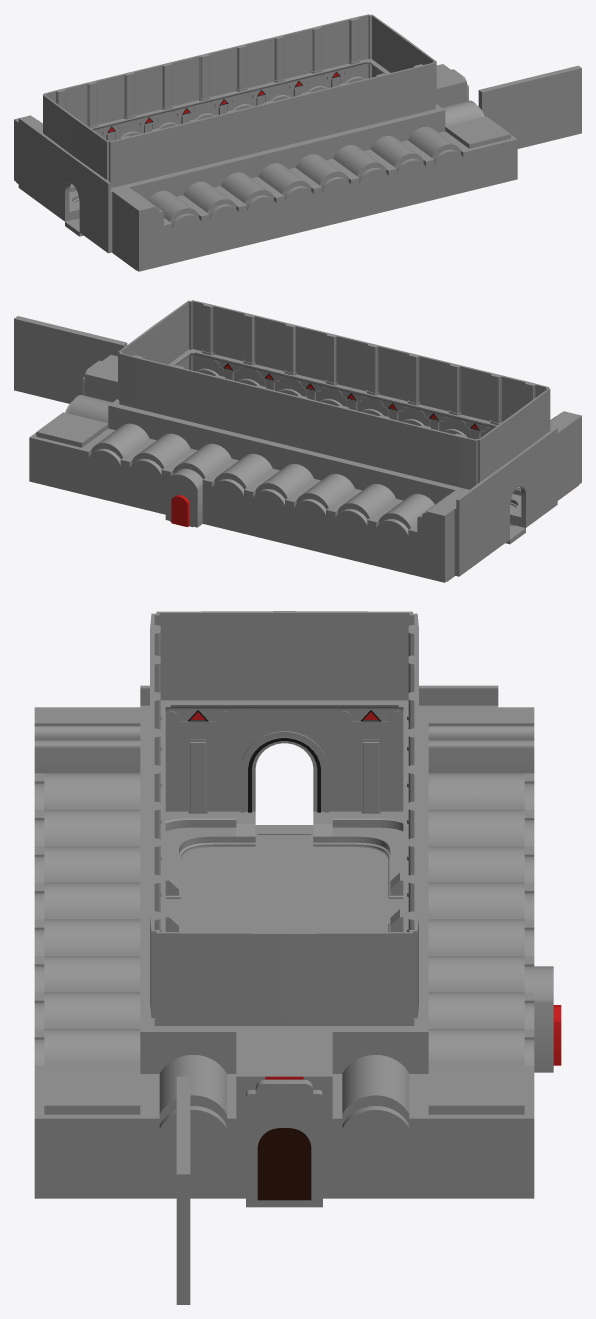
The model's file is FBX_Cour.FBX.
3 renders of one model, top to bottom at view 1: azimuth 30°, elevation 25°; view 2: azimuth 150°, elevation 25°; view 3: azimuth 270°, elevation 25°, orthographic. The views are drawn at different scales.
Visible parts, largest first — view 1: SM_Cour_294, SM_Cour_03, SM_Cour_90, SM_Cour_114, SM_Cour_04, SM_Cour_241, SM_Cour_135, SM_Cour_124, SM_Cour_121, SM_Cour_123, SM_Cour_125, SM_Cour_120 (+69 smaller); view 2: SM_Cour_294, SM_Cour_03, SM_Cour_115, SM_Cour_179, SM_Cour_118, SM_Cour_04, SM_Cour_88, SM_Cour_129, SM_Cour_130, SM_Cour_131, SM_Cour_132, SM_Cour_133 (+70 smaller); view 3: SM_Cour_135, SM_Cour_118, SM_Cour_115, SM_Cour_114, SM_Cour_241, SM_Cour_179, SM_Cour_90, SM_Cour_88, SM_Cour_03, SM_Cour_45, SM_Cour_195, SM_Cour_04 (+50 smaller).
Part boxes in pixels (<box>): SM_Cour_294: <box>478,65,581,148</box>; SM_Cour_03: <box>18,117,61,217</box>; SM_Cour_90: <box>111,185,163,271</box>; SM_Cour_114: <box>74,118,126,185</box>; SM_Cour_04: <box>84,165,112,253</box>; SM_Cour_241: <box>469,135,517,190</box>; SM_Cour_135: <box>353,14,404,72</box>; SM_Cour_124: <box>307,84,345,137</box>; SM_Cour_121: <box>194,112,232,165</box>; SM_Cour_123: <box>269,93,307,146</box>; SM_Cour_125: <box>344,75,382,128</box>; SM_Cour_120: <box>157,121,195,174</box>; SM_Cour_294: <box>14,316,127,403</box>; SM_Cour_03: <box>454,466,504,576</box>; SM_Cour_115: <box>458,414,515,487</box>; SM_Cour_179: <box>29,432,81,493</box>; SM_Cour_118: <box>153,300,209,364</box>; SM_Cour_04: <box>529,427,557,523</box>; SM_Cour_88: <box>417,487,469,582</box>; SM_Cour_129: <box>341,407,383,465</box>; SM_Cour_130: <box>300,397,342,455</box>; SM_Cour_131: <box>259,387,301,445</box>; SM_Cour_132: <box>218,377,260,435</box>; SM_Cour_133: <box>177,367,219,425</box>; SM_Cour_135: <box>284,915,418,1020</box>; SM_Cour_118: <box>150,915,284,1020</box>; SM_Cour_115: <box>284,611,418,700</box>; SM_Cour_114: <box>150,611,284,700</box>; SM_Cour_241: <box>34,1074,140,1198</box>; SM_Cour_179: <box>428,1074,534,1198</box>; SM_Cour_90: <box>34,707,149,773</box>; SM_Cour_88: <box>419,707,534,773</box>; SM_Cour_03: <box>332,685,498,811</box>; SM_Cour_45: <box>246,833,322,1207</box>; SM_Cour_195: <box>342,1106,409,1198</box>; SM_Cour_04: <box>140,685,236,811</box>.
Bounding box in the file's own units: 5800 × 2740 × 1290.
